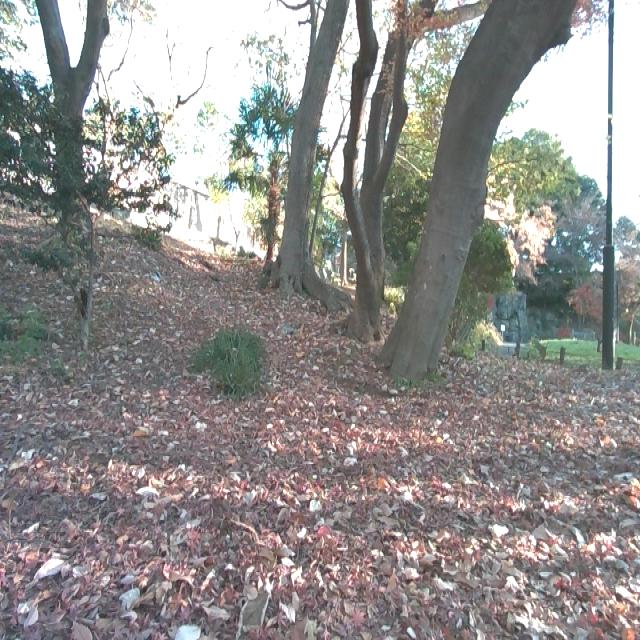artifact: (594, 0, 620, 370)
bush: (188, 319, 258, 399)
tree: (380, 0, 579, 388), (324, 0, 430, 344), (245, 0, 359, 288), (23, 0, 109, 258)
